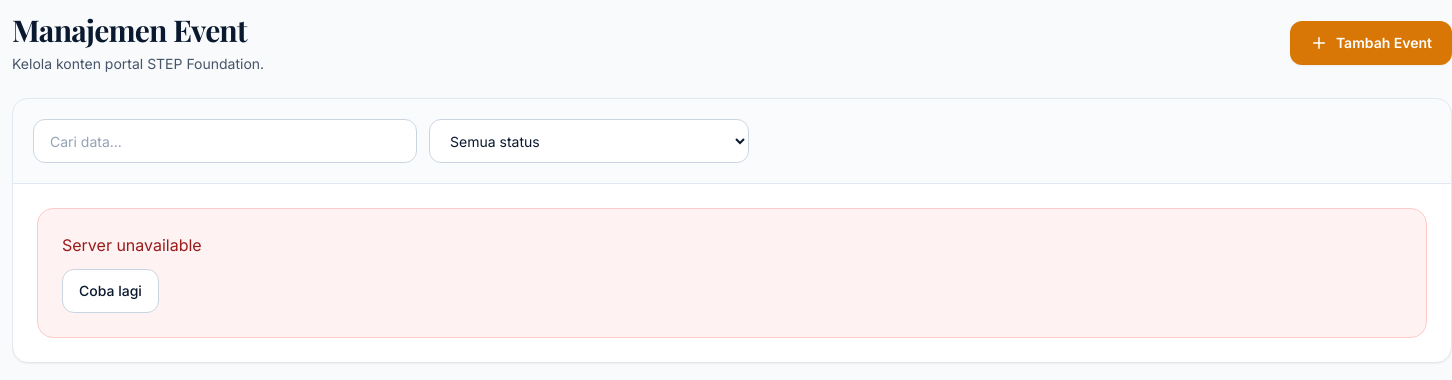
Scenario: failed list requests are errors with retry, not zero or empty success
Expected: the text "Server unavailable" is shown, left=62, top=235, right=202, bottom=255
Click the button "Coba lagi" at (110, 291), box left=62, top=269, right=159, bottom=313
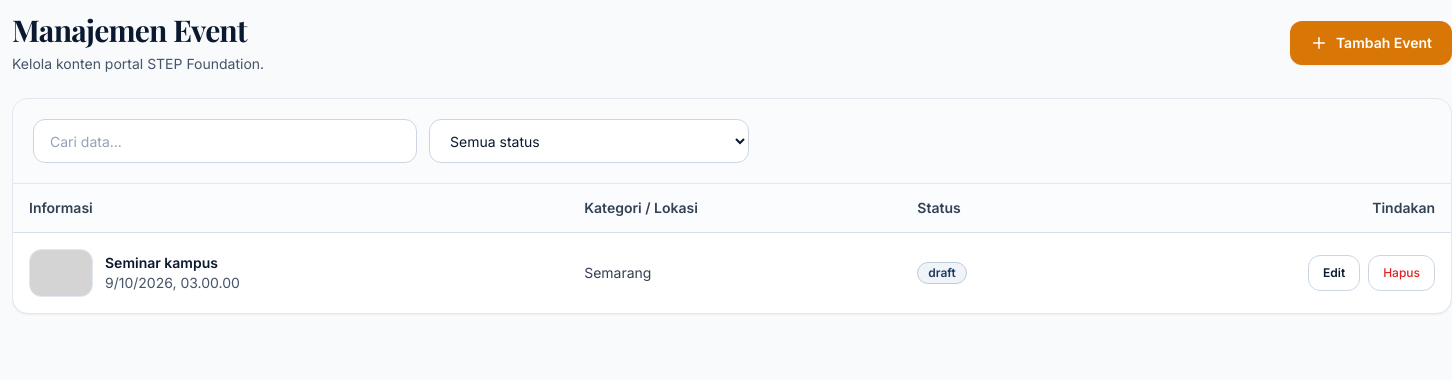
Expected: the text "Seminar kampus" is shown, left=105, top=254, right=218, bottom=270
